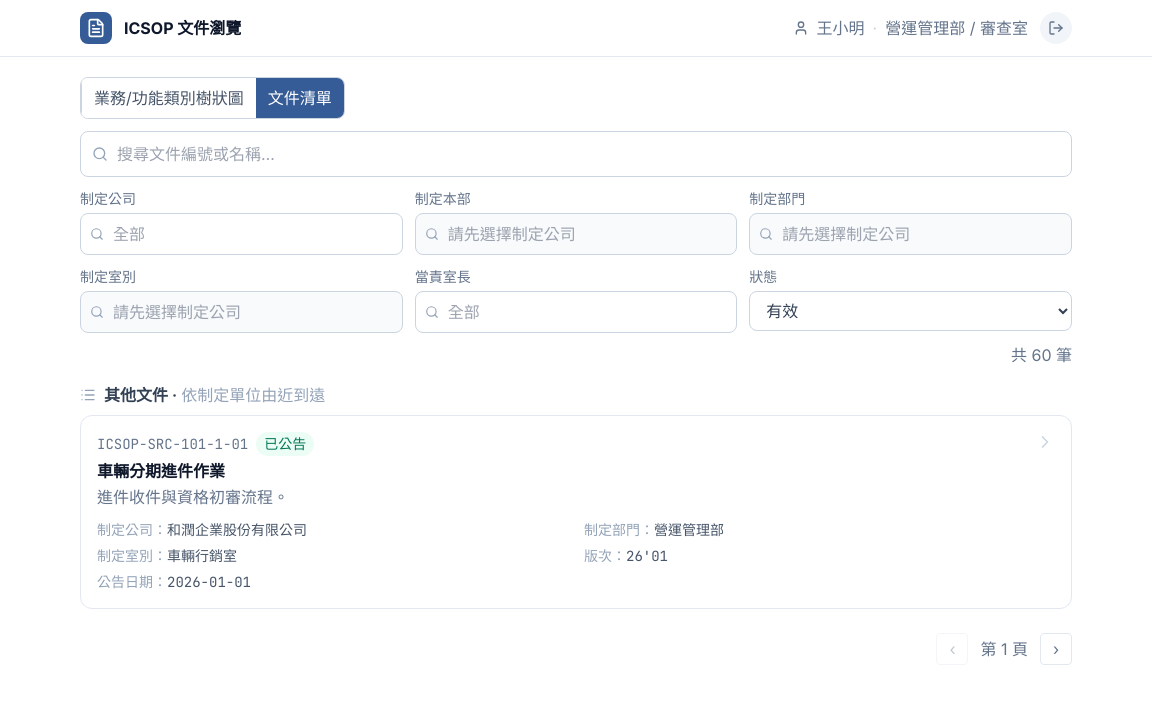
Test: PublicListPage RWD（F021 · unit 可驗證範圍） › TS-F021-003 斷點切換時分頁頁碼不遺失（防禦性延伸）
Check: the heading "車輛分期進件作業" is shown, box [97, 461, 225, 481]
Click the button named "下一頁": click(1056, 649) [1040, 633, 1072, 665]
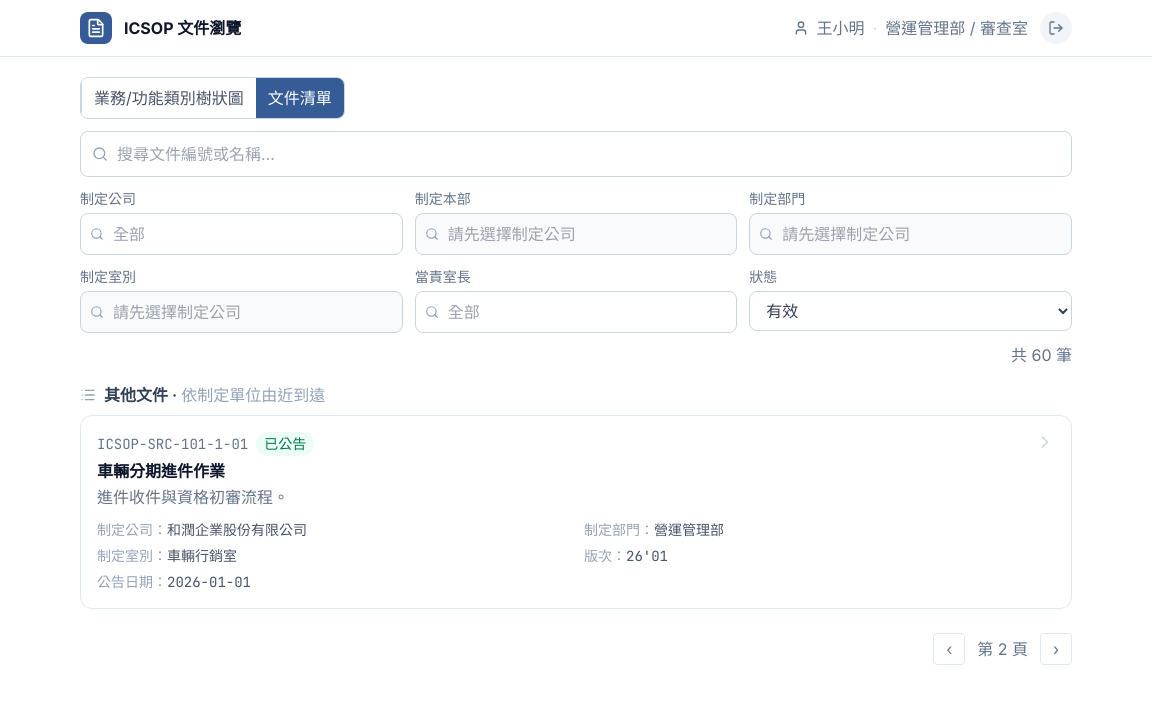
Check: the text "第 2 頁" is shown, box [977, 639, 1028, 659]
